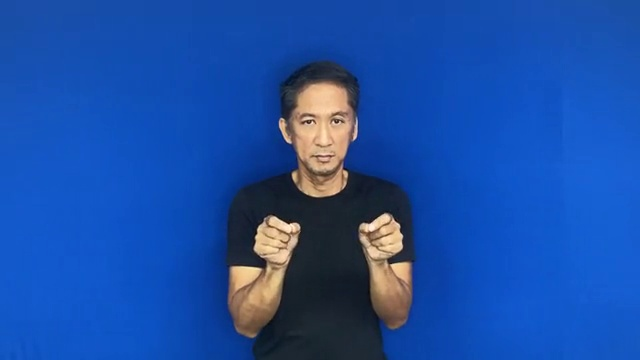crab: (249, 207, 409, 272)
